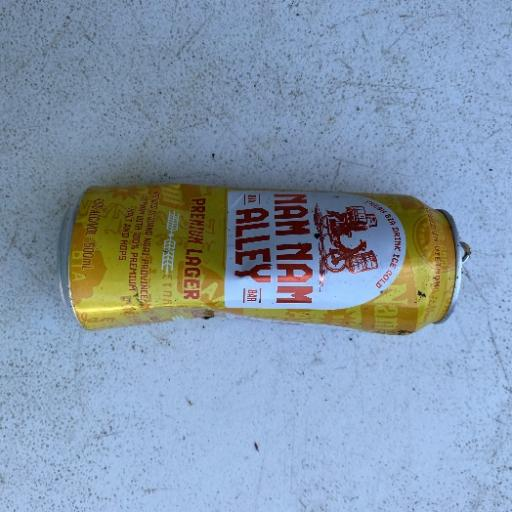Metal: (59, 181, 468, 337)
